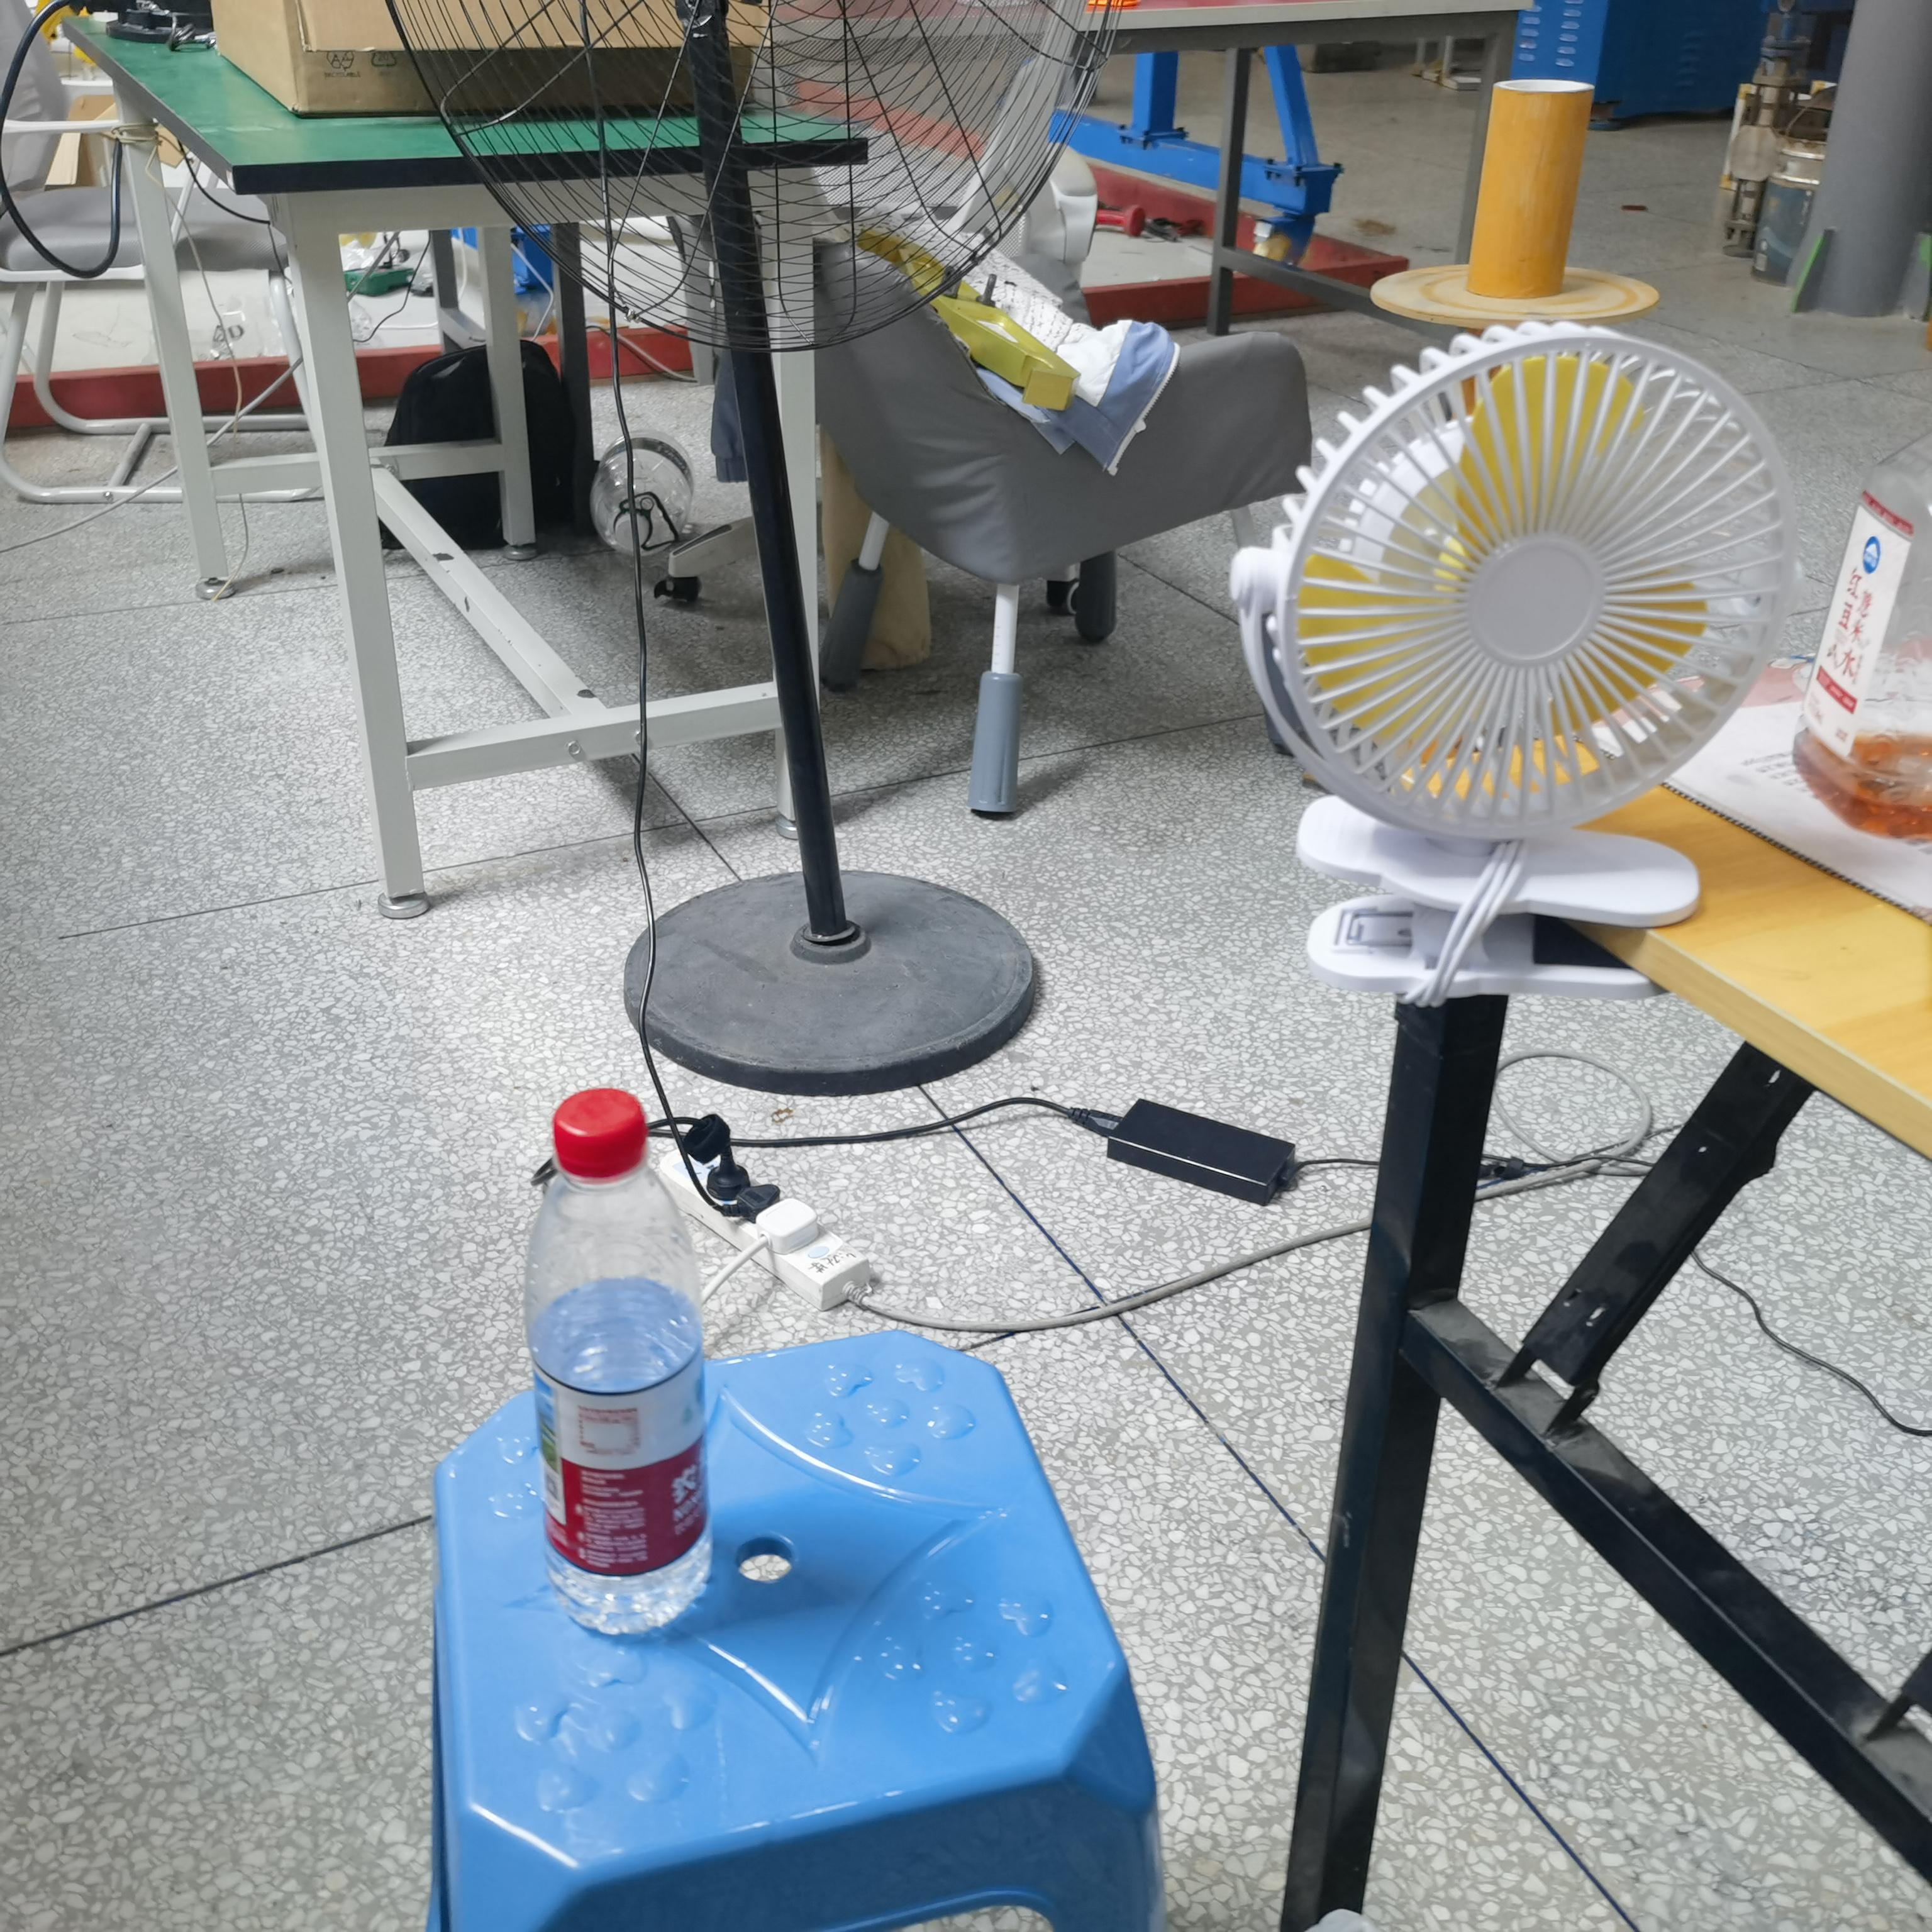bottle: (525, 1090, 711, 1635)
fan: (1230, 322, 1796, 1007)
